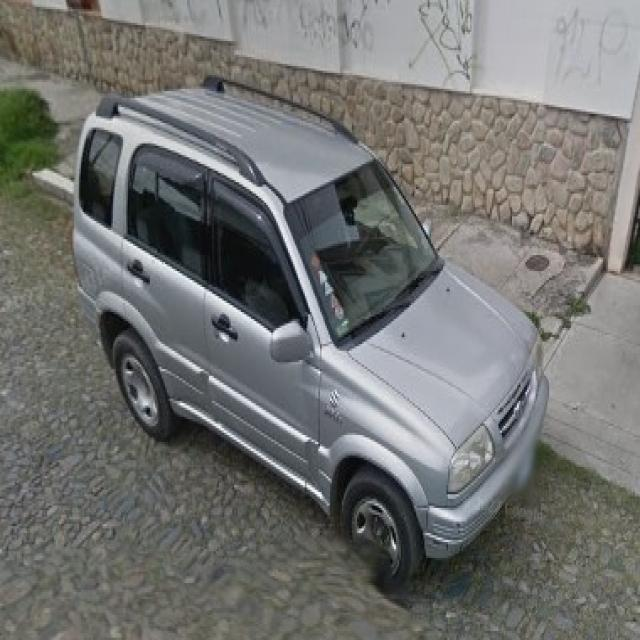cars: (64, 73, 550, 587)
